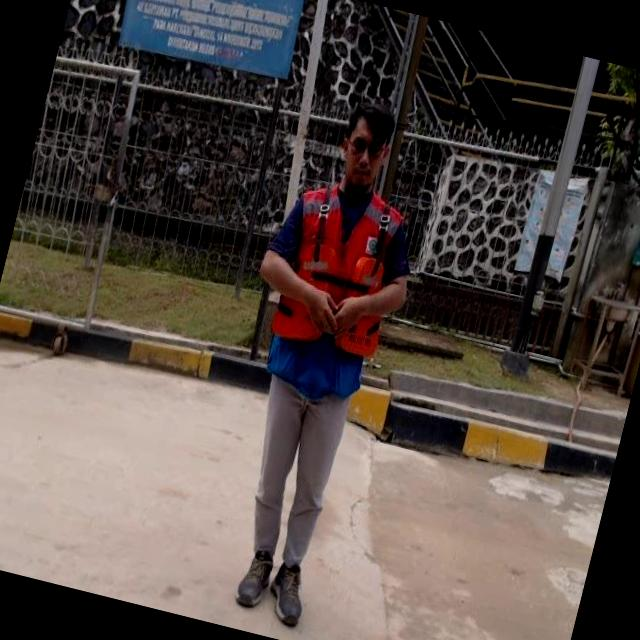boots: (260, 556, 312, 626), (230, 546, 276, 614)
no-gloves: (323, 286, 369, 339), (299, 280, 342, 336)
no-helmet: (332, 96, 402, 190)
vest: (258, 176, 412, 402)
